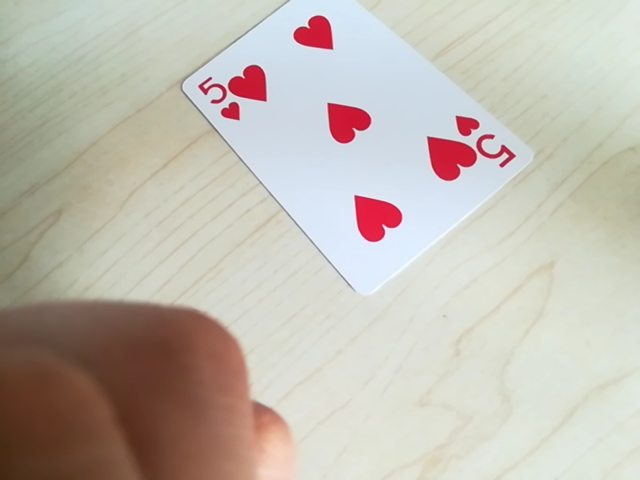hx 5: (457, 116, 520, 170), (193, 70, 253, 126)
